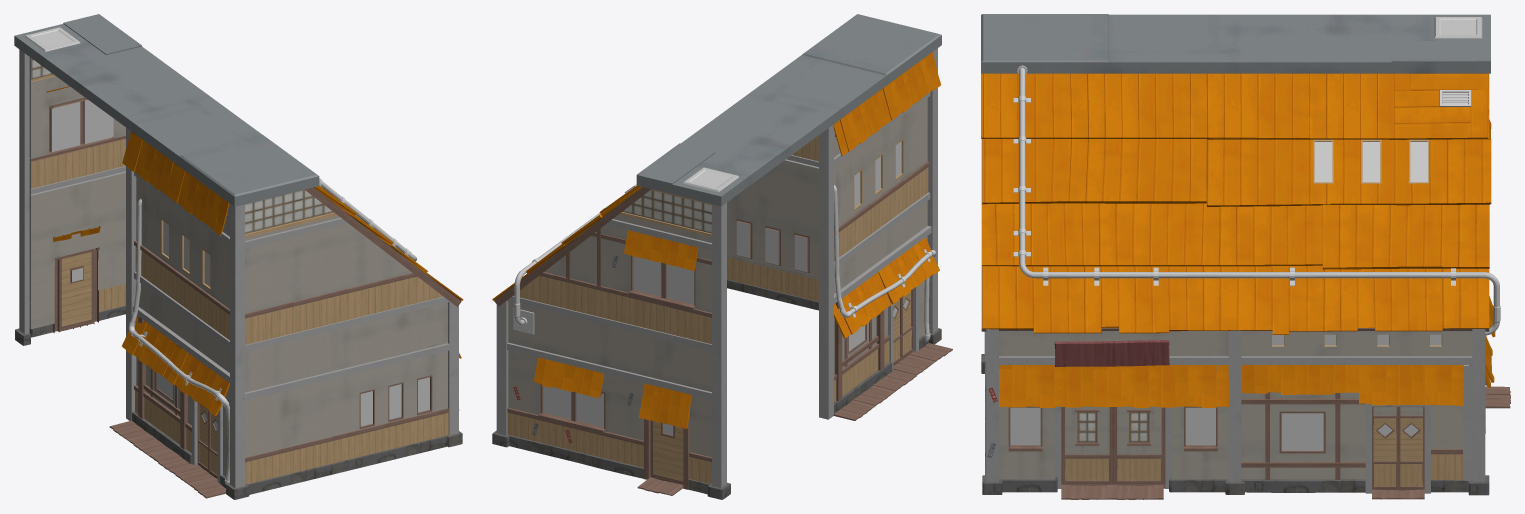
File: SM_ENV_KNVLLG_AreaG_Building_C.fbx
3 views of the same model, side by side, from view 1: azimuth 30°, elevation 25°; view 2: azimuth 150°, elevation 25°; view 3: azimuth 270°, elevation 25° (orthographic). The views are drawn at different scales.
Visible parts, largest first — view 1: SM_ENV_KNVLLG_AreaG_Building_C.mo; view 2: SM_ENV_KNVLLG_AreaG_Building_C.mo; view 3: SM_ENV_KNVLLG_AreaG_Building_C.mo.
Boxes of the visible parts, x1,y1,x2,y2 form: SM_ENV_KNVLLG_AreaG_Building_C.mo: (14,14,463,499); SM_ENV_KNVLLG_AreaG_Building_C.mo: (492,14,952,499); SM_ENV_KNVLLG_AreaG_Building_C.mo: (981,14,1510,499).
Bounding box in the file's own units: 2216 × 2499 × 3395.
